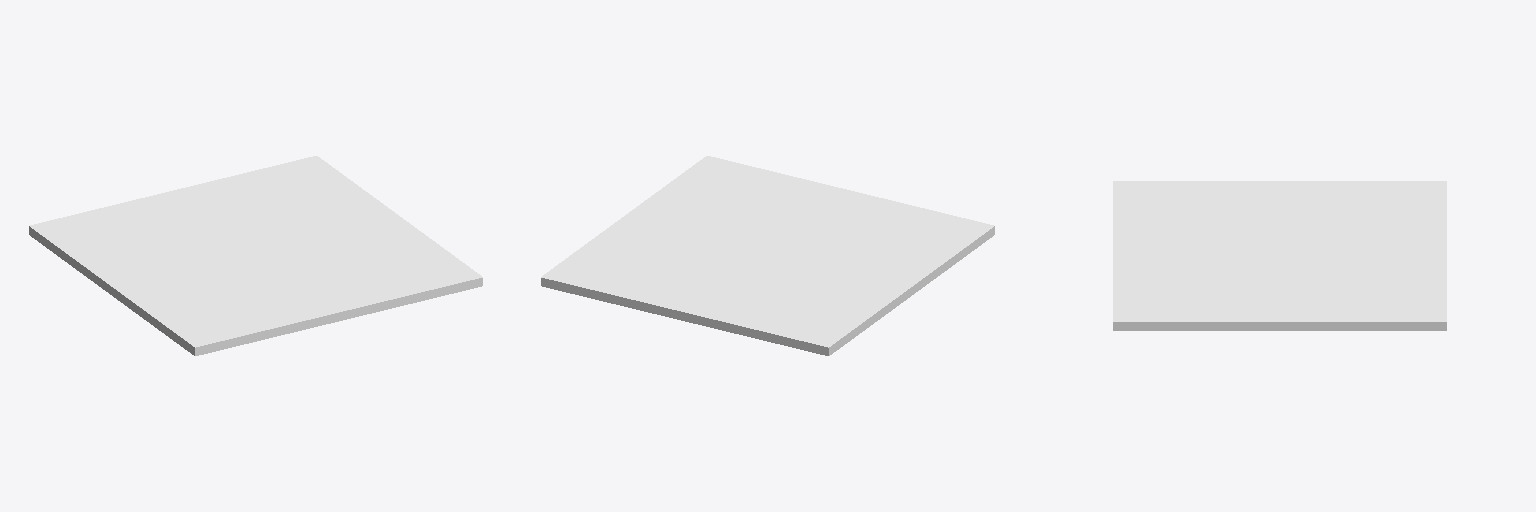
The model's file is Larva.obj.
3 renders of one model, left to right at view 1: azimuth 30°, elevation 25°; view 2: azimuth 150°, elevation 25°; view 3: azimuth 270°, elevation 25°, orthographic.
Parts seen in each view (by area): view 1: Larva; view 2: Larva; view 3: Larva.
Part boxes in pixels (bbox=[...]): Larva: bbox=[29, 156, 482, 355]; Larva: bbox=[541, 156, 994, 355]; Larva: bbox=[1113, 181, 1446, 330].
Size of the model in its own units: 68 by 2 by 68.